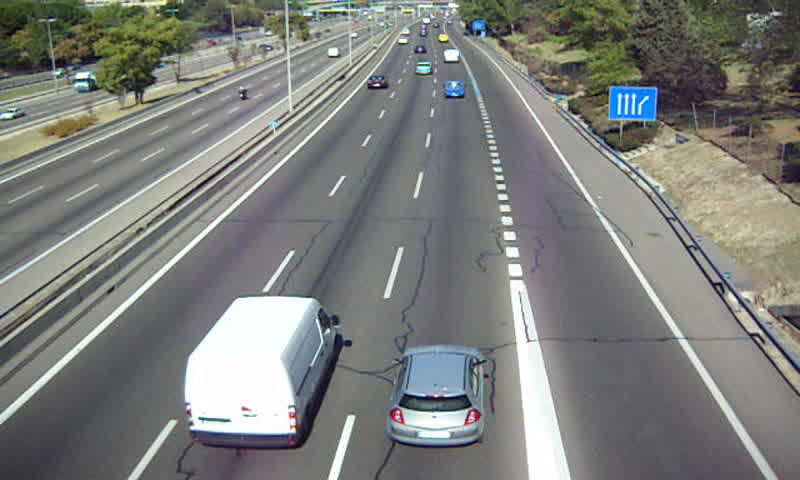car: (388, 347, 484, 444), (443, 79, 467, 100), (366, 75, 389, 90), (414, 61, 432, 76)
van: (184, 296, 333, 448), (442, 49, 460, 64)
